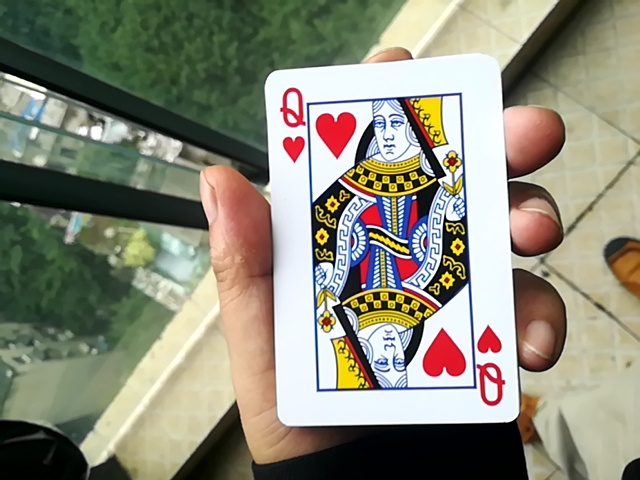hx q: (258, 57, 519, 423)
